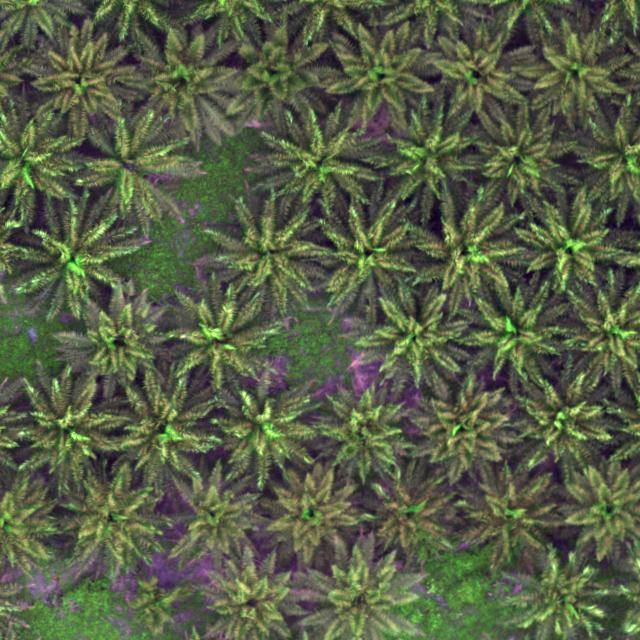oilpalm: (126, 27, 236, 138), (211, 193, 320, 303), (402, 369, 505, 482), (168, 286, 272, 393), (26, 201, 124, 313), (313, 190, 410, 298), (513, 187, 612, 291), (105, 370, 201, 477), (422, 25, 526, 122), (262, 110, 364, 208), (74, 112, 167, 218), (61, 463, 157, 565), (417, 195, 512, 297), (523, 28, 622, 125), (552, 453, 640, 562), (17, 377, 109, 479), (212, 374, 304, 475), (326, 27, 428, 117), (517, 367, 606, 469), (470, 114, 572, 200), (460, 284, 555, 376), (270, 457, 357, 557), (203, 547, 296, 640), (312, 550, 408, 640), (462, 459, 547, 560), (511, 546, 602, 638), (73, 296, 166, 386), (226, 25, 315, 117), (381, 107, 470, 198), (362, 459, 447, 552), (323, 379, 407, 473), (169, 467, 251, 559), (34, 40, 124, 123), (566, 287, 640, 384), (369, 292, 453, 377)
